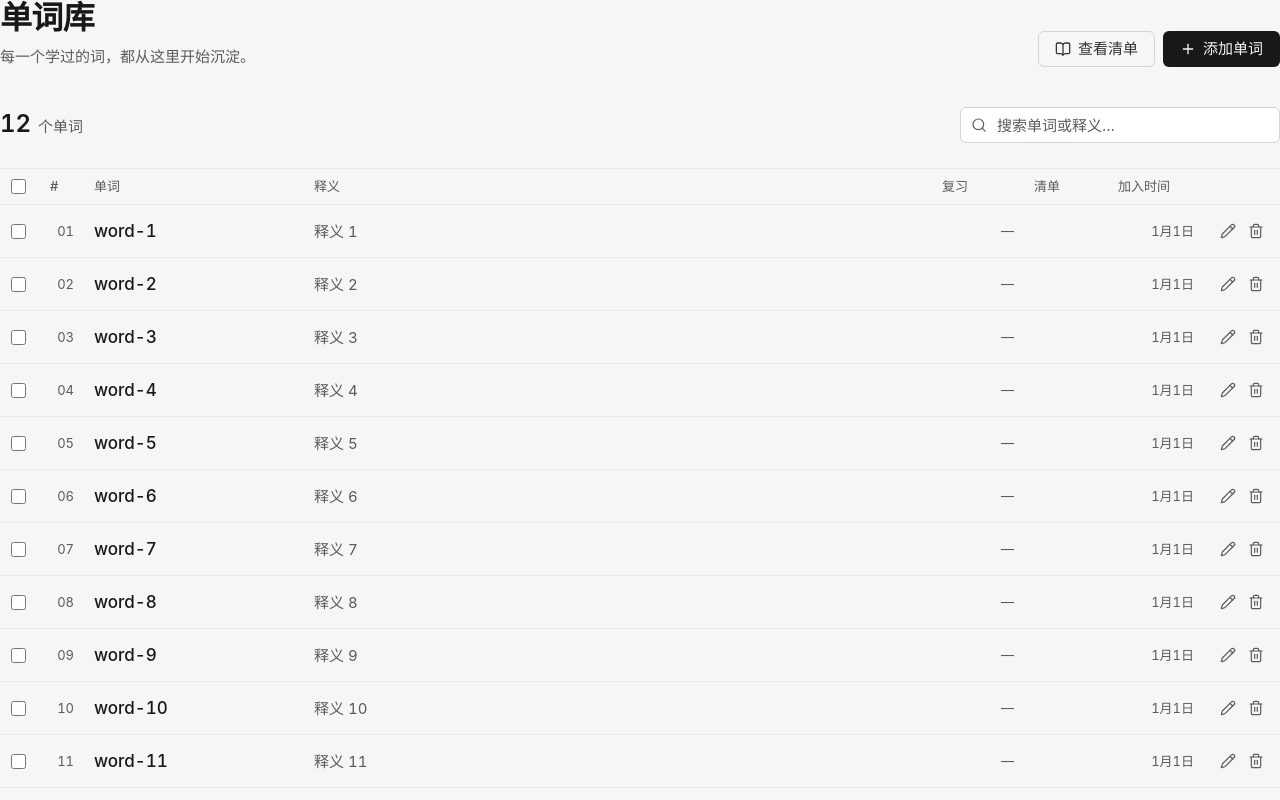
单词的批量删除 › 每行一个勾选框，列头可全选本页也可取消
The width and height of the screenshot is (1280, 800).
Check: the checkbox named "选择 word-1" is not checked, box [10,224,26,239]
Click the checkbox named "选中本页全部单词" at x=18, y=186, box [10,179,26,194]
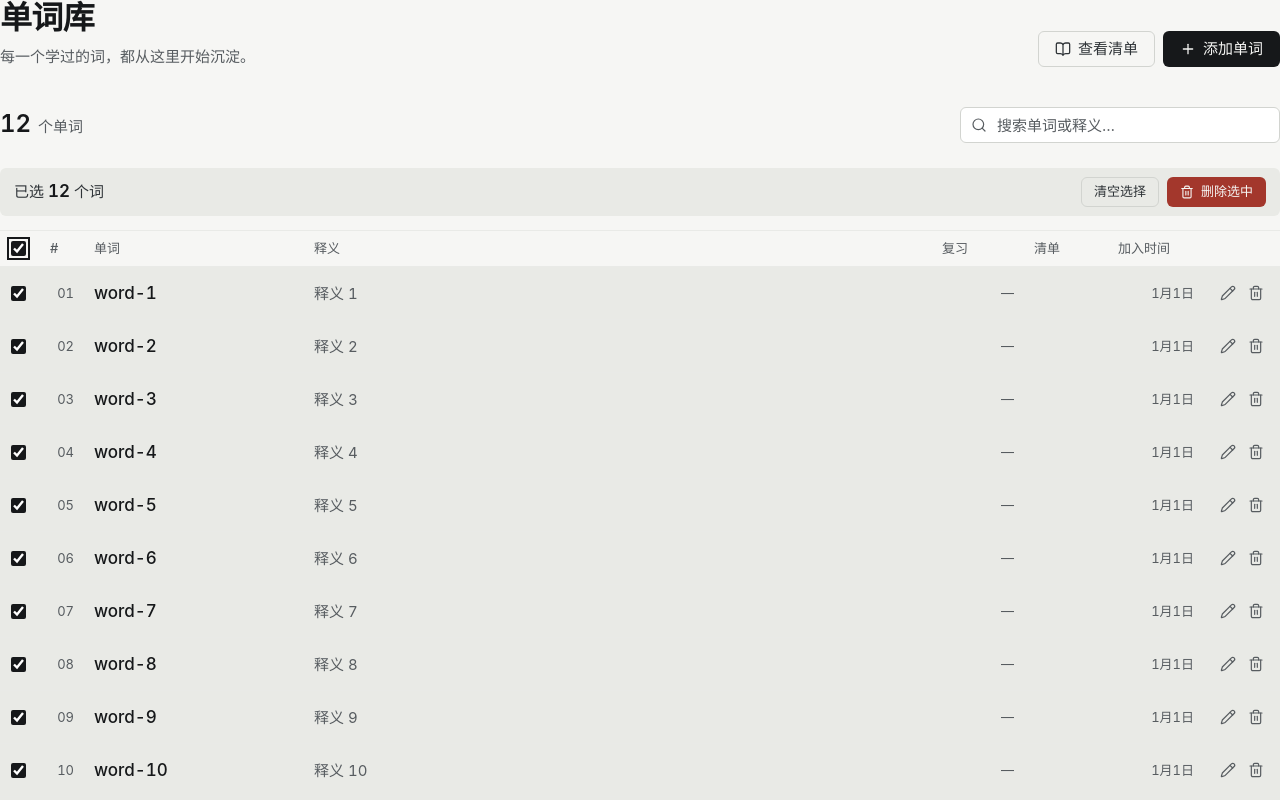
Check: the checkbox named "选中本页全部单词" is checked
Check: the message reads "已选 12 个词", box [14,180,104,204]
Click the checkbox named "选中本页全部单词" at x=18, y=248, box [10,241,26,256]
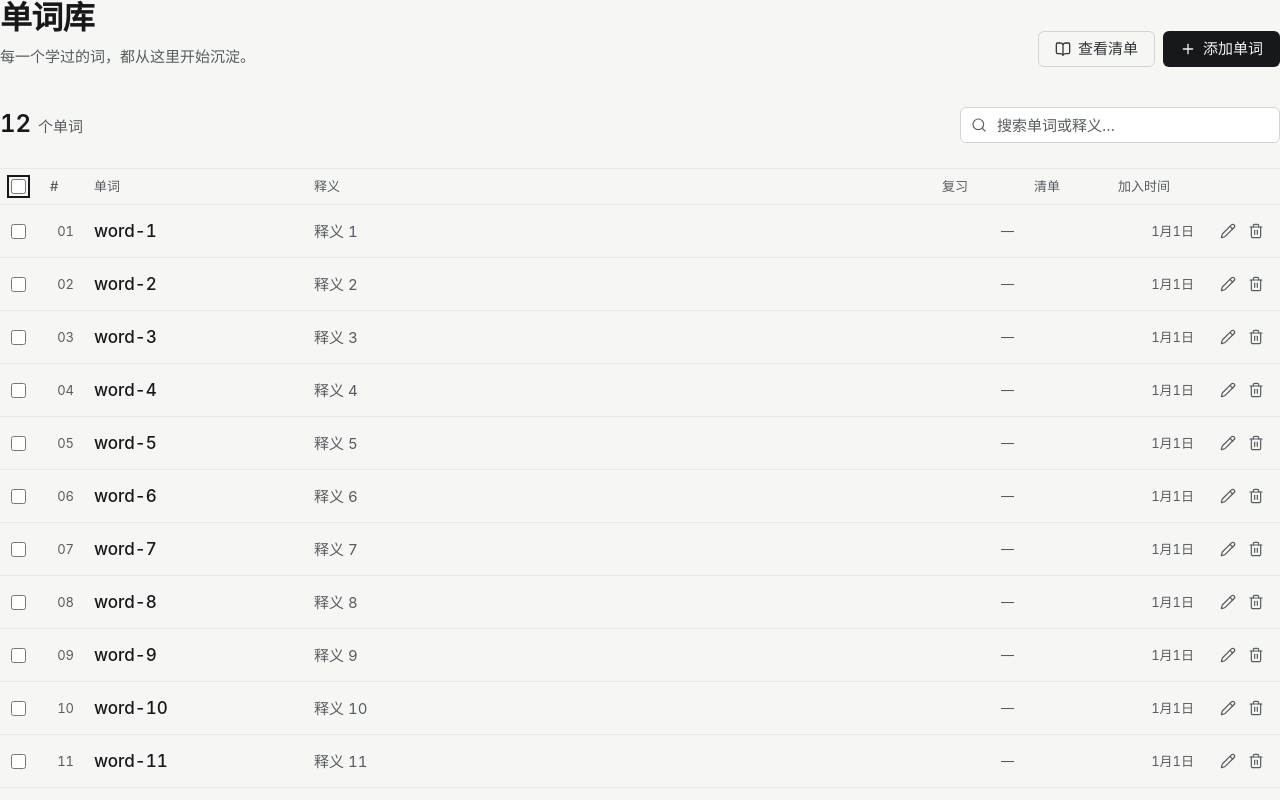
Check: the checkbox named "选中本页全部单词" is not checked, box [10,179,26,194]
Check: the checkbox named "选择 word-1" is not checked, box [10,224,26,239]
Check: the element "批量删除" is gone
